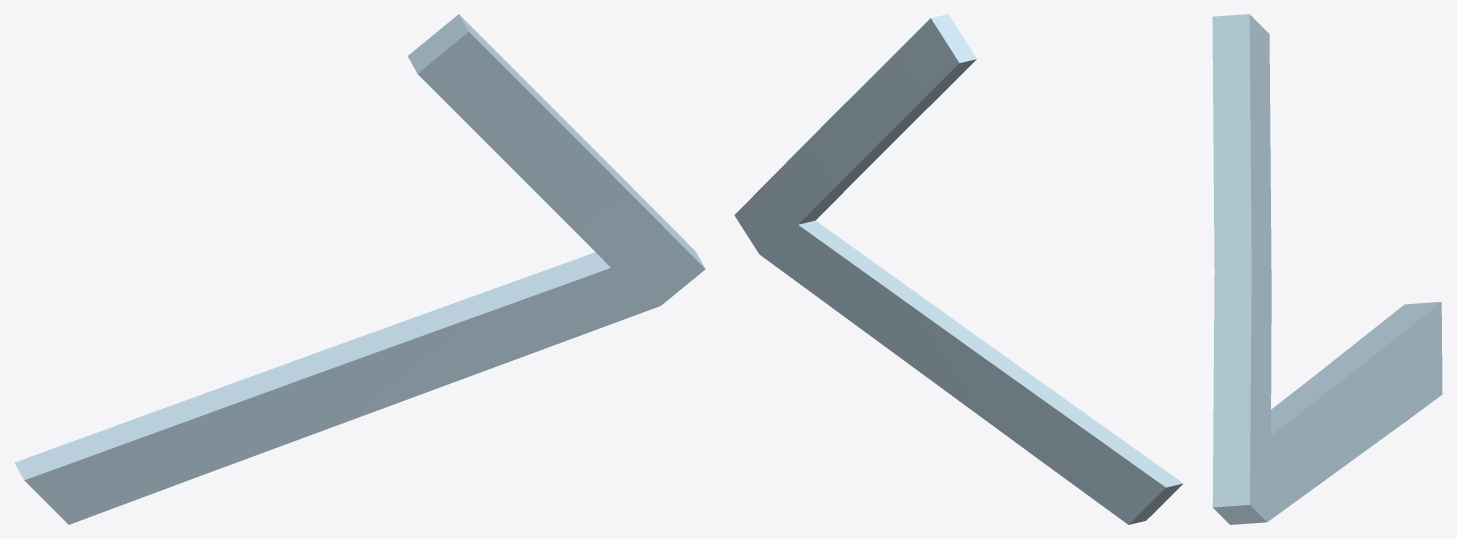
Rendered from Number_7.gltf.
3 renders of one model, left to right at view 1: azimuth 30°, elevation 25°; view 2: azimuth 150°, elevation 25°; view 3: azimuth 270°, elevation 25°, orthographic. The views are drawn at different scales.
Parts seen in each view (by area): view 1: Sub_1_Cell_2_1_Number_7; view 2: Sub_1_Cell_2_1_Number_7; view 3: Sub_1_Cell_2_1_Number_7.
Boxes of the visible parts, box(x1,y1,x2,y2) form: Sub_1_Cell_2_1_Number_7: box(14, 14, 705, 524); Sub_1_Cell_2_1_Number_7: box(734, 14, 1183, 524); Sub_1_Cell_2_1_Number_7: box(1212, 14, 1442, 524).
Bounding box in the file's own units: 0.0276 × 0.0208 × 0.00758.
